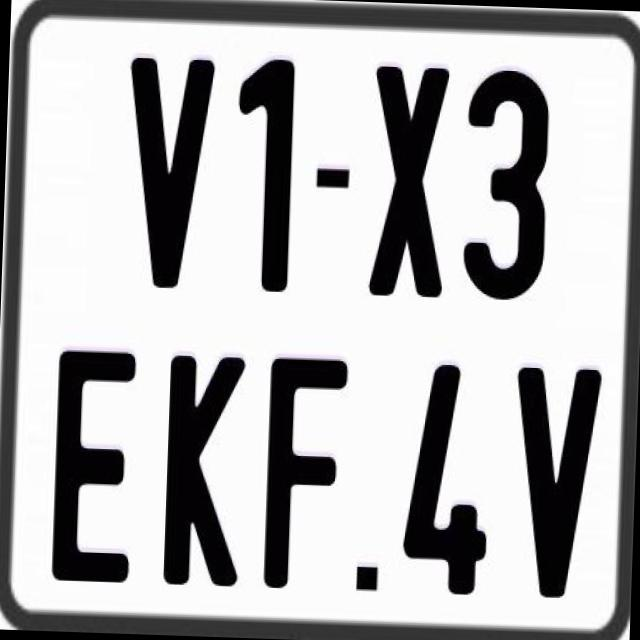1: (230, 58, 293, 294)
3: (462, 64, 552, 301)
4: (397, 358, 489, 600)
E: (48, 344, 136, 578)
F: (258, 354, 348, 592)
K: (160, 354, 244, 590)
V: (508, 366, 606, 606), (122, 54, 220, 288)
X: (369, 62, 457, 298)
